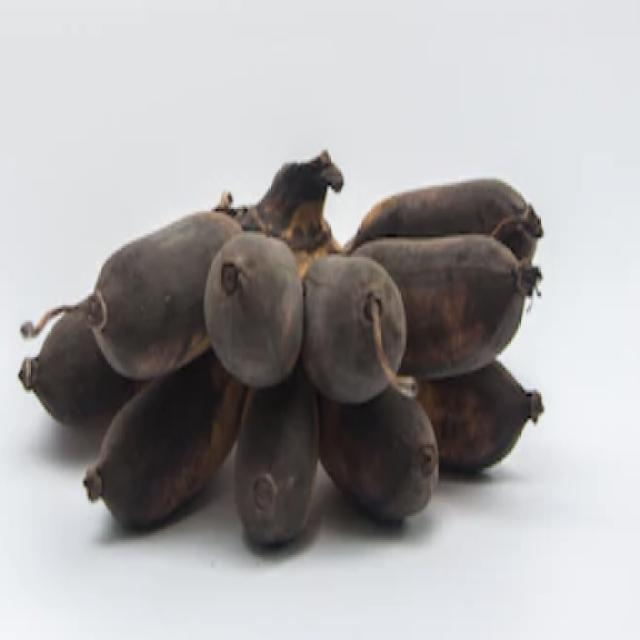banana: (22, 211, 241, 381), (84, 352, 245, 527), (356, 235, 541, 379), (320, 389, 438, 523), (346, 180, 543, 258), (205, 234, 303, 388), (303, 256, 405, 403), (235, 365, 318, 545), (417, 361, 544, 475), (19, 315, 144, 430)
